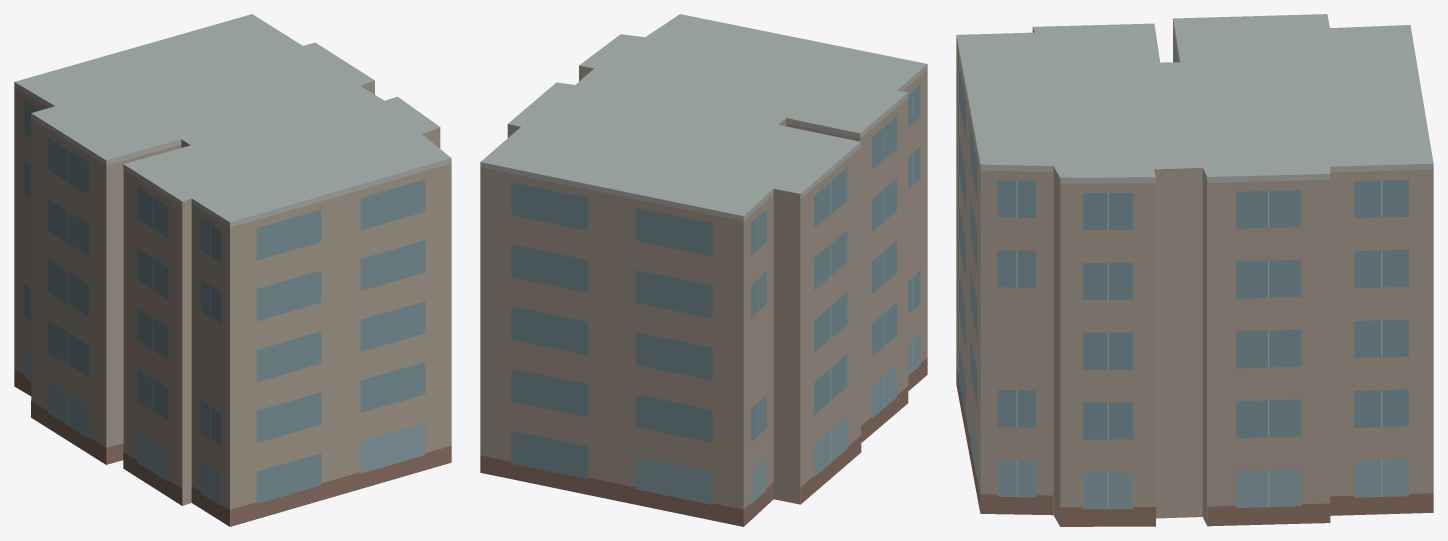
Rendered from survey-upis-32835451.glb.
3 renders of one model, left to right at view 1: azimuth 30°, elevation 25°; view 2: azimuth 150°, elevation 25°; view 3: azimuth 270°, elevation 25°, orthographic. The views are drawn at different scales.
Parts seen in each view (by area): view 1: survey-upis-32835451.tmp; view 2: survey-upis-32835451.tmp; view 3: survey-upis-32835451.tmp.
Part boxes in pixels (x1=…): survey-upis-32835451.tmp: x1=14, y1=14, x2=451, y2=526; survey-upis-32835451.tmp: x1=480, y1=14, x2=927, y2=526; survey-upis-32835451.tmp: x1=956, y1=14, x2=1433, y2=526.
Bounding box in the file's own units: 14.53 × 14.43 × 17.89.
